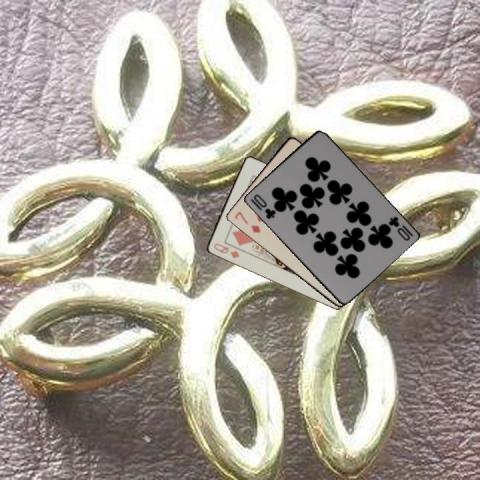10c: (247, 191, 277, 221), (385, 213, 414, 242)
7d: (232, 208, 262, 235)
Qd: (210, 240, 241, 260)
